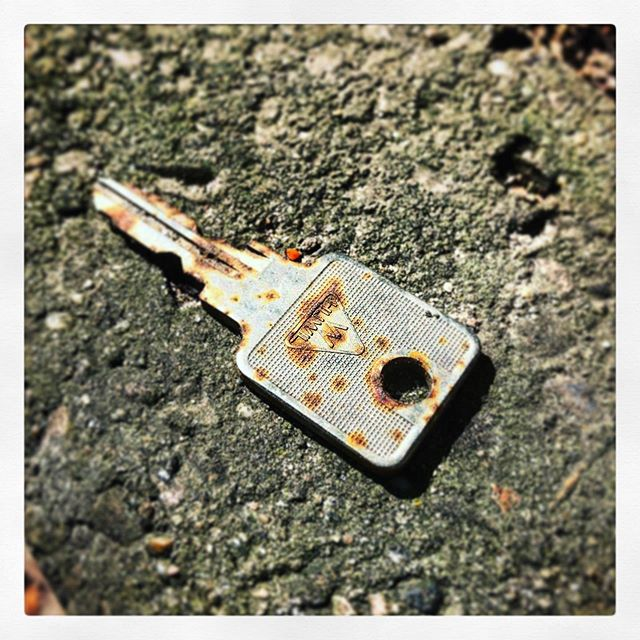key: (87, 165, 491, 475)
